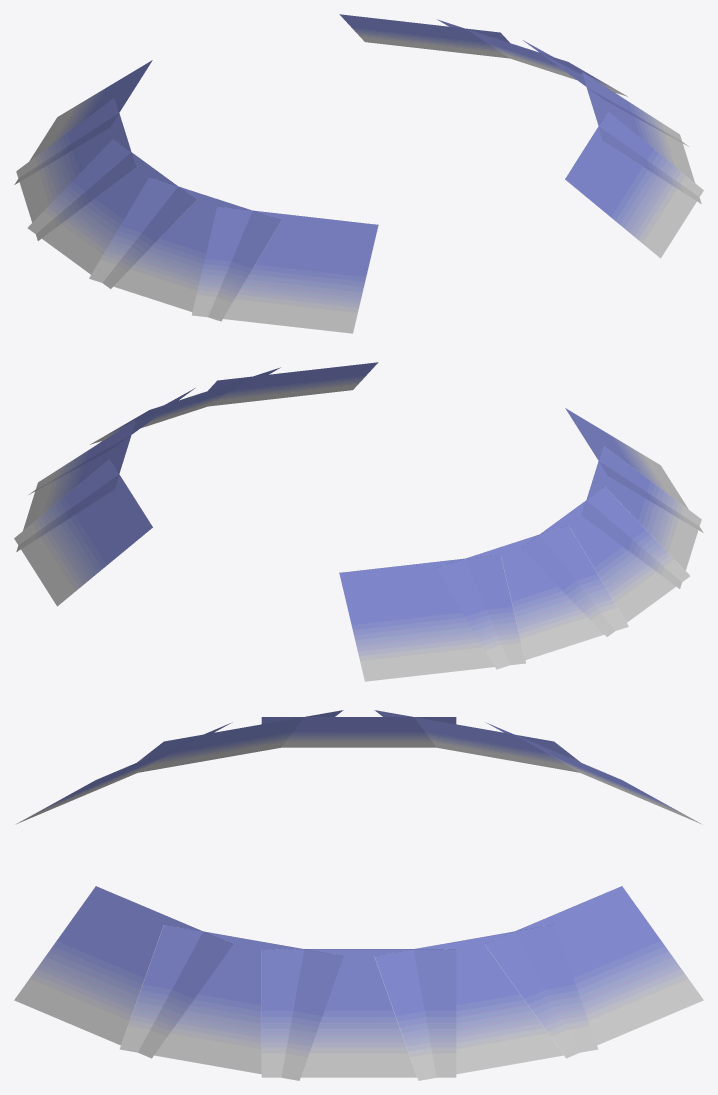
The picture shows the model from 3 angles, top to bottom: view 1: azimuth 30°, elevation 25°; view 2: azimuth 150°, elevation 25°; view 3: azimuth 270°, elevation 25°; orthographic projection. The views are drawn at different scales.
Size of the model in its own units: 175 by 19.37 by 152.
1 material, 1 textured.
